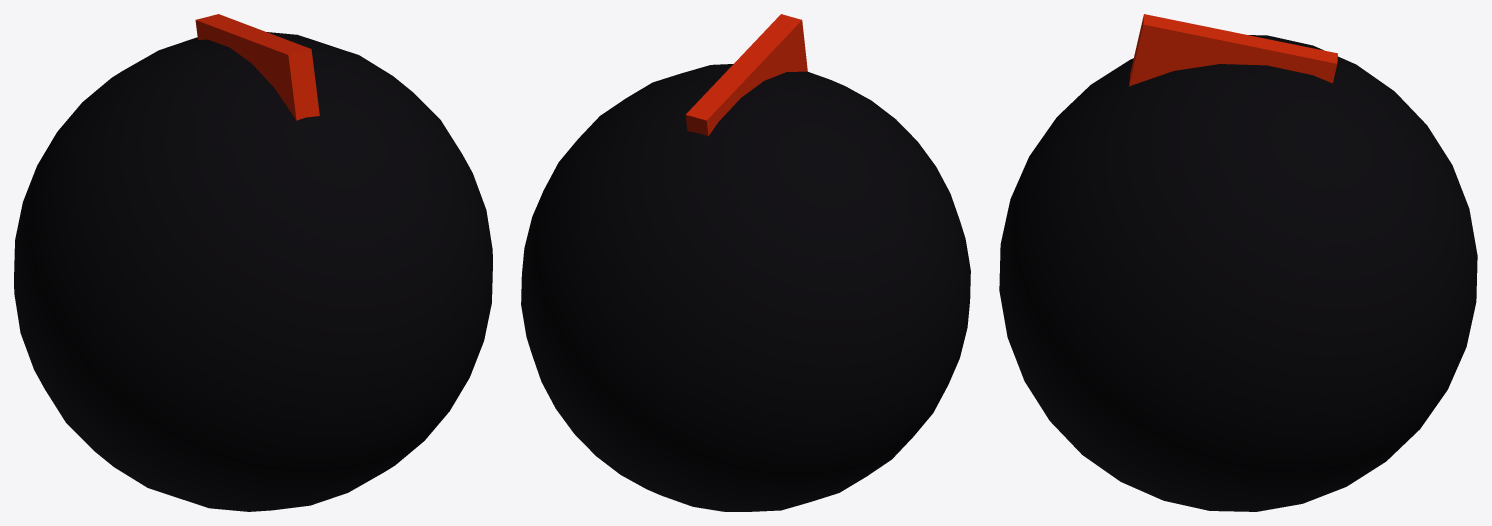
3 views of the same model, side by side, from view 1: azimuth 30°, elevation 25°; view 2: azimuth 150°, elevation 25°; view 3: azimuth 270°, elevation 25° (orthographic). The views are drawn at different scales.
Visible parts, largest first — view 1: I; view 2: I; view 3: I.
Part boxes in pixels (x1,y1,x2,y2): I: [14, 14, 492, 511]; I: [521, 14, 970, 511]; I: [999, 14, 1477, 511].
Size of the model in its own units: 38.74 by 41.94 by 38.65.
